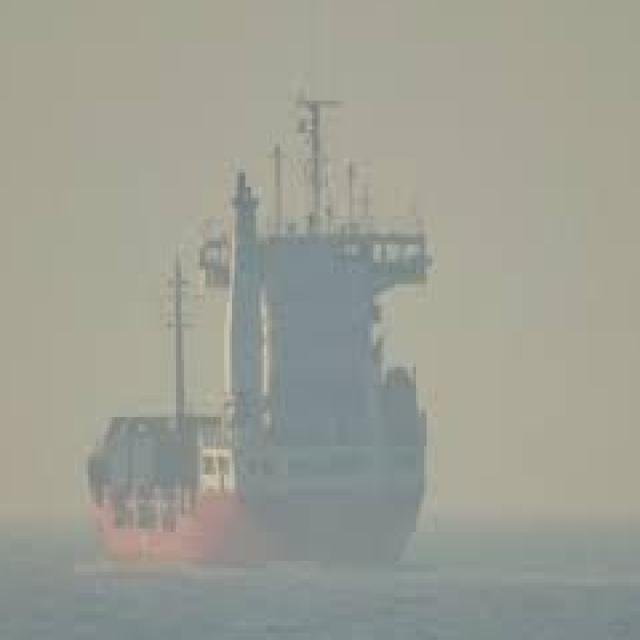cargoship: (88, 104, 431, 566)
